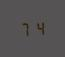four: (32, 20, 44, 36)
seven: (19, 20, 31, 37)
